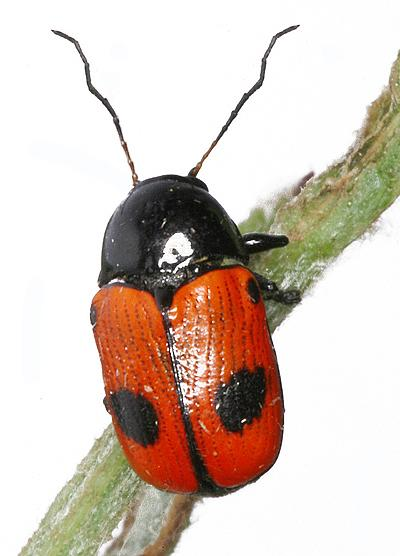Cryptocephalus_bipunctatus: (38, 17, 303, 497)
